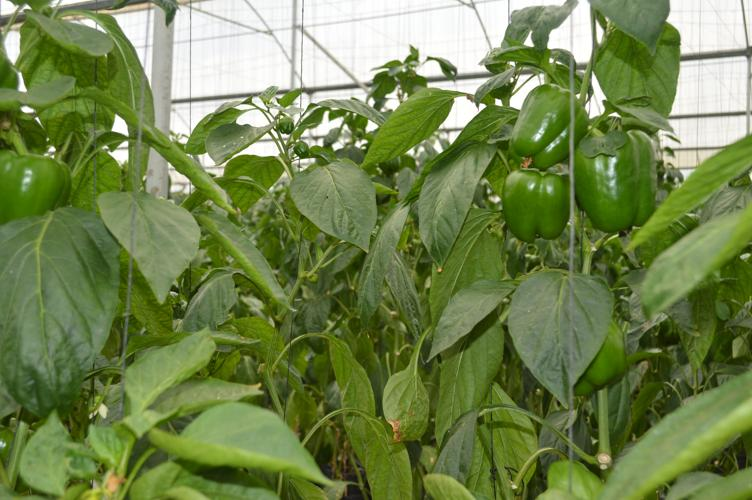BellPepper: (579, 123, 659, 235), (495, 74, 569, 173), (496, 162, 565, 248), (1, 149, 73, 230)
